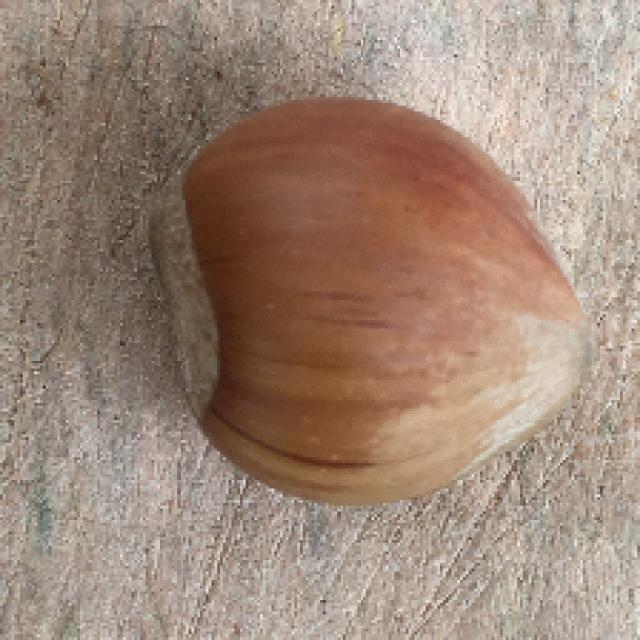damagedHazelnut: (150, 89, 596, 516)
